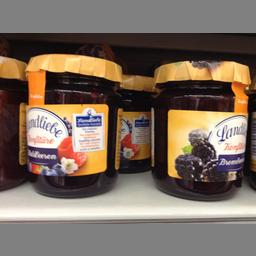jam: (148, 58, 250, 200), (24, 52, 121, 198), (0, 52, 26, 194)
